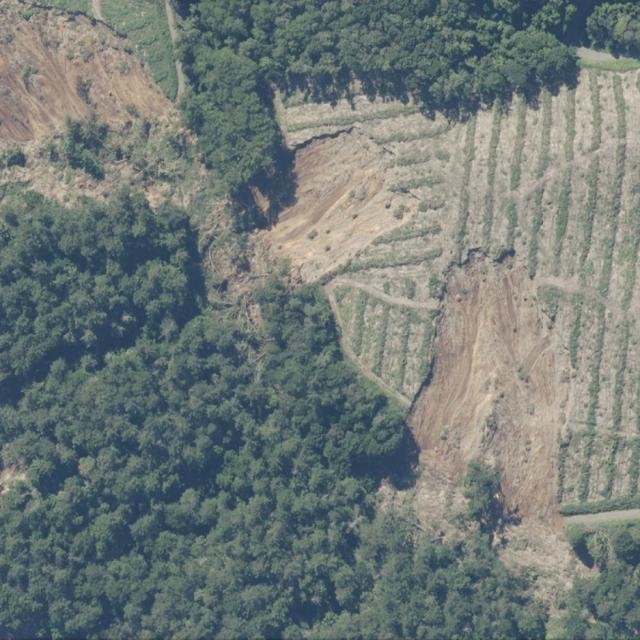landslide: (408, 251, 590, 616), (0, 0, 201, 206), (261, 128, 418, 283), (405, 191, 411, 195)
